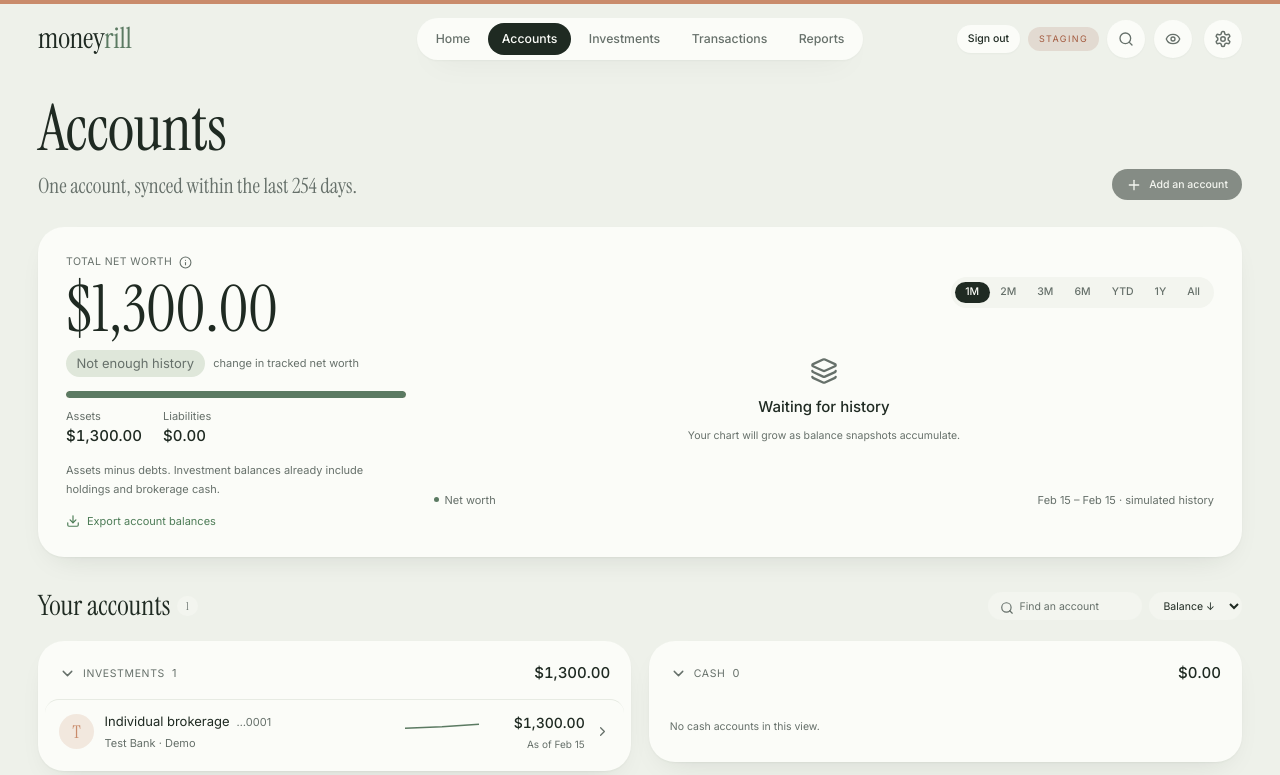
Scenario: Portfolio return › takes the deposit out: the return, the gain and what was contributed
Expected: the text "TOTAL NET WORTH" is shown, top-left (66, 255), bottom-right (192, 269)
Step 1. Click the link "Investments" → click(624, 38), box top-left (589, 31), bottom-right (660, 46)
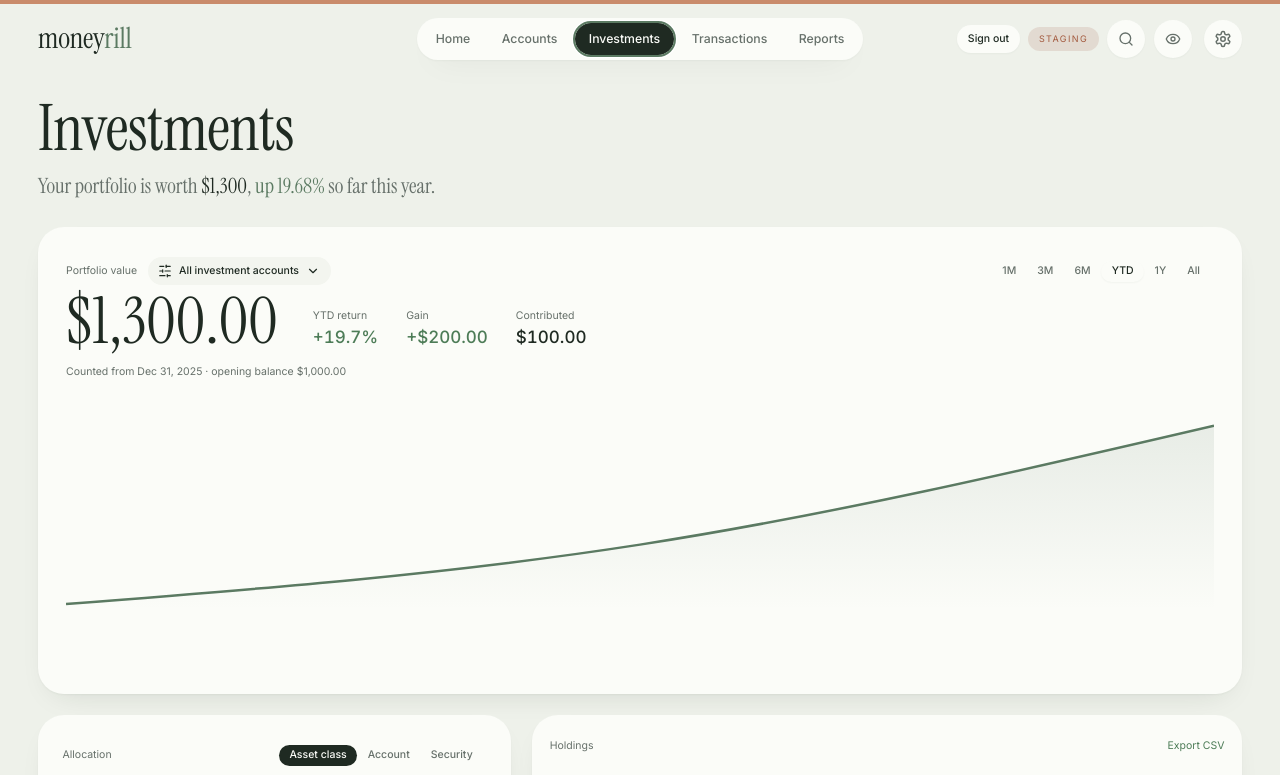
Expected: the text "Portfolio value" is shown, top-left (66, 264), bottom-right (137, 278)
Expected: the text "YTD return" is shown, top-left (313, 309), bottom-right (367, 322)
Expected: the text "+19.7%" is shown, top-left (313, 326), bottom-right (378, 349)
